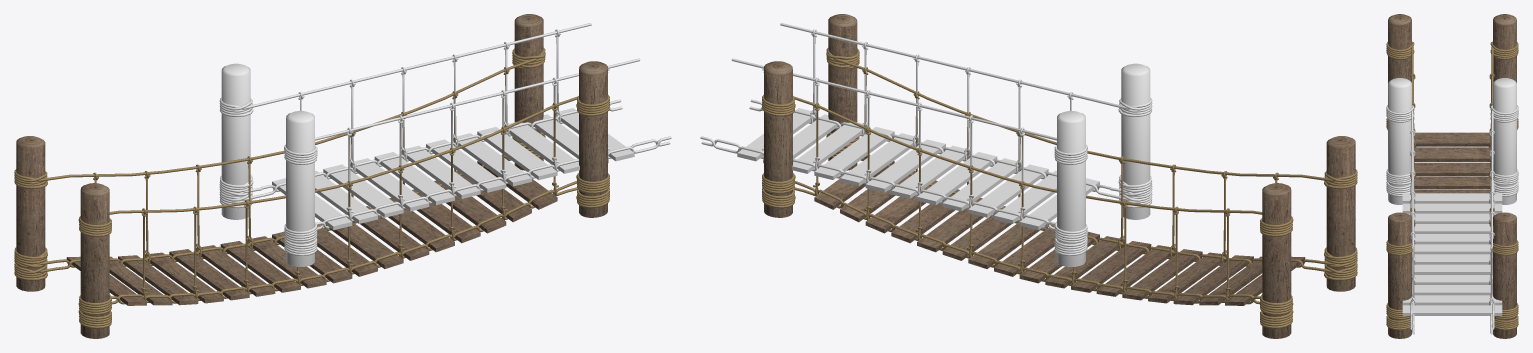
File: ropeBridge.fbx
3 views of the same model, side by side, from view 1: azimuth 30°, elevation 25°; view 2: azimuth 150°, elevation 25°; view 3: azimuth 270°, elevation 25° (orthographic). The views are drawn at different scales.
Parts seen in each view (by area): view 1: Cylinder.003, Cube, Cylinder, Circle, Plane.001, Plane, Circle.002, Circle.001; view 2: Cylinder.003, Cube, Cylinder, Circle, Plane.001, Plane, Circle.002, Circle.001; view 3: Cylinder.003, Cube, Cylinder, Circle, Plane, Circle.002, Circle.001, Plane.001.
Boxes of the visible parts, x1,y1,x2,y2 form: Cylinder.003: (14,14,609,338); Cube: (272,108,634,230); Cylinder: (221,63,314,266); Circle: (219,23,640,164); Plane.001: (261,99,671,230); Plane: (298,29,610,220); Circle.002: (219,175,317,243); Circle.001: (219,190,317,255); Cylinder.003: (762,14,1357,338); Cube: (737,108,1099,230); Cylinder: (1057,63,1150,266); Circle: (731,23,1152,164); Plane.001: (700,99,1110,230); Plane: (761,29,1073,220); Circle.002: (1054,175,1152,243); Circle.001: (1054,190,1152,255); Cylinder.003: (1386,14,1518,338); Cube: (1402,193,1502,315); Cylinder: (1388,78,1516,204); Circle: (1386,105,1518,248); Plane: (1409,130,1495,305); Circle.002: (1386,169,1518,185); Circle.001: (1386,181,1518,196); Plane.001: (1410,185,1494,334).
Bounding box in the file's own units: 1978 × 569 × 467.
2 materials, 1 textured.
